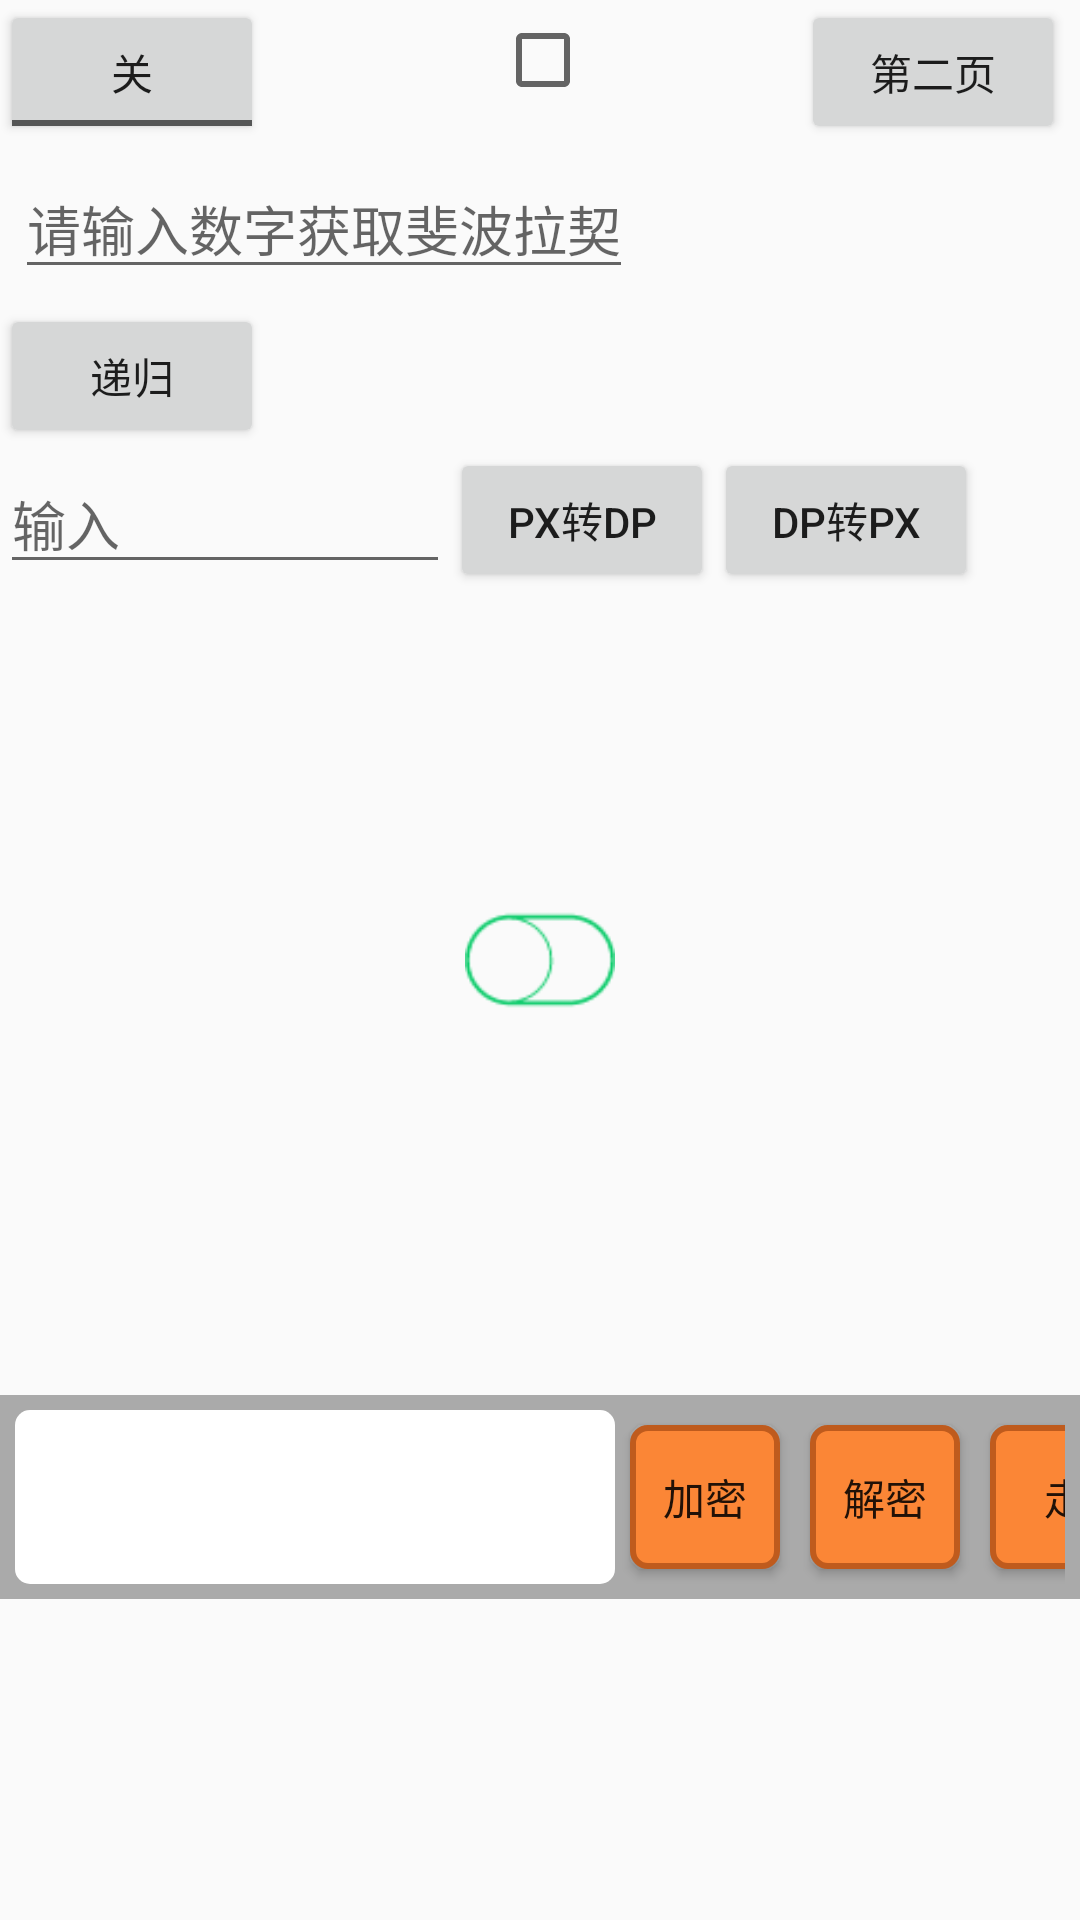

Locate icon controls on the screen. Image size 1080×1920, boxes as Rect(x1, y1, x2, y2).
off: Rect(465, 913, 615, 1007)
